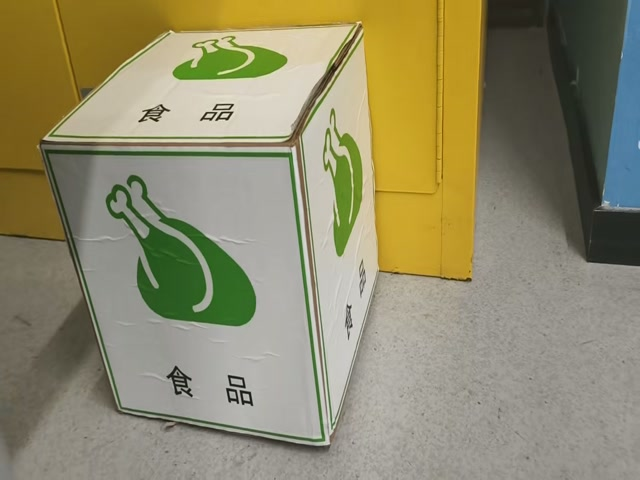Cube_food: (41, 24, 362, 153)
